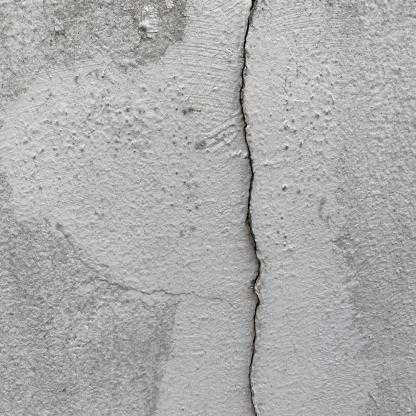crack: (238, 1, 261, 416)
